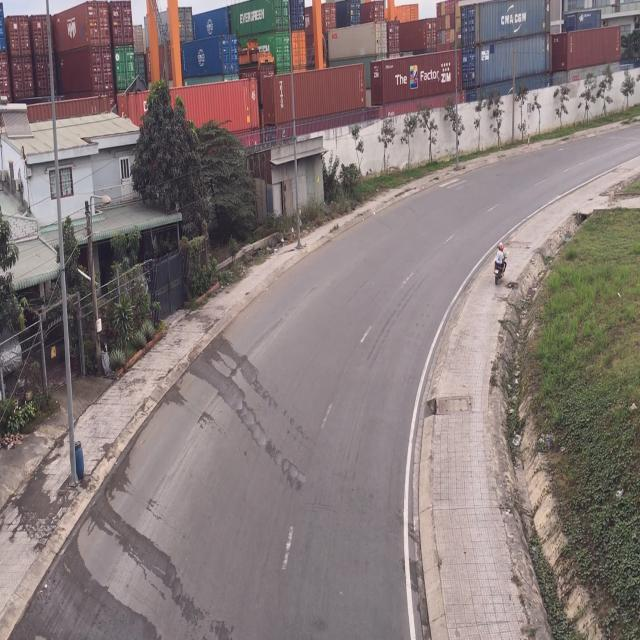motorbike: (494, 243, 506, 285)
